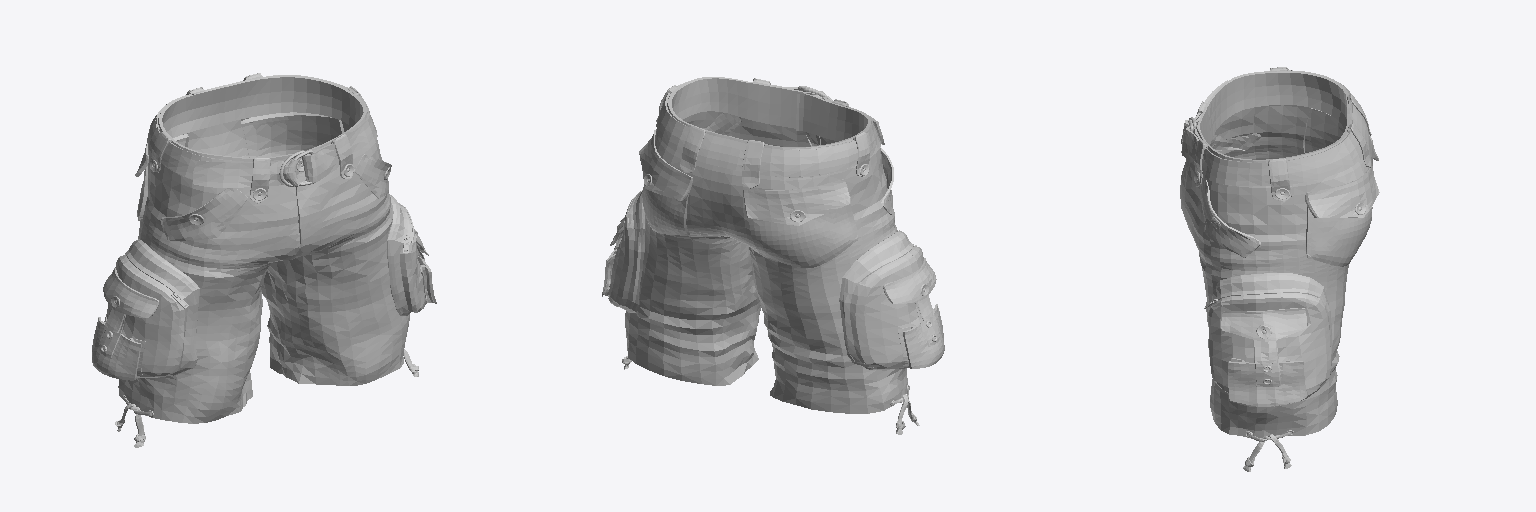
Rendered from mens_cargo_short1j.obj.
3 renders of one model, left to right at view 1: azimuth 30°, elevation 25°; view 2: azimuth 150°, elevation 25°; view 3: azimuth 270°, elevation 25°, orthographic.
Size of the model in its own units: 5.5 by 4.74 by 2.9.